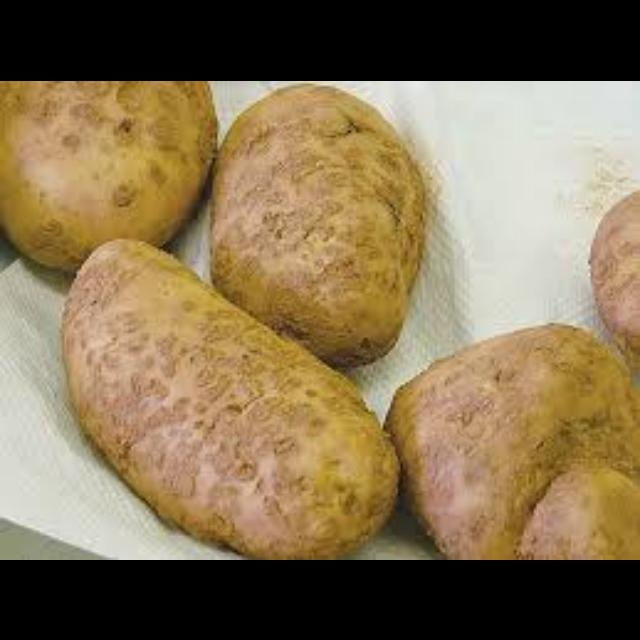Diseased-fungal potato: (53, 240, 403, 560), (198, 81, 424, 363), (376, 328, 640, 560), (1, 80, 216, 272)
